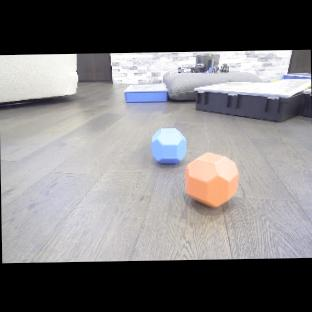V5_BLUE: (151, 127, 187, 164)
V5_RED: (184, 153, 240, 208)
